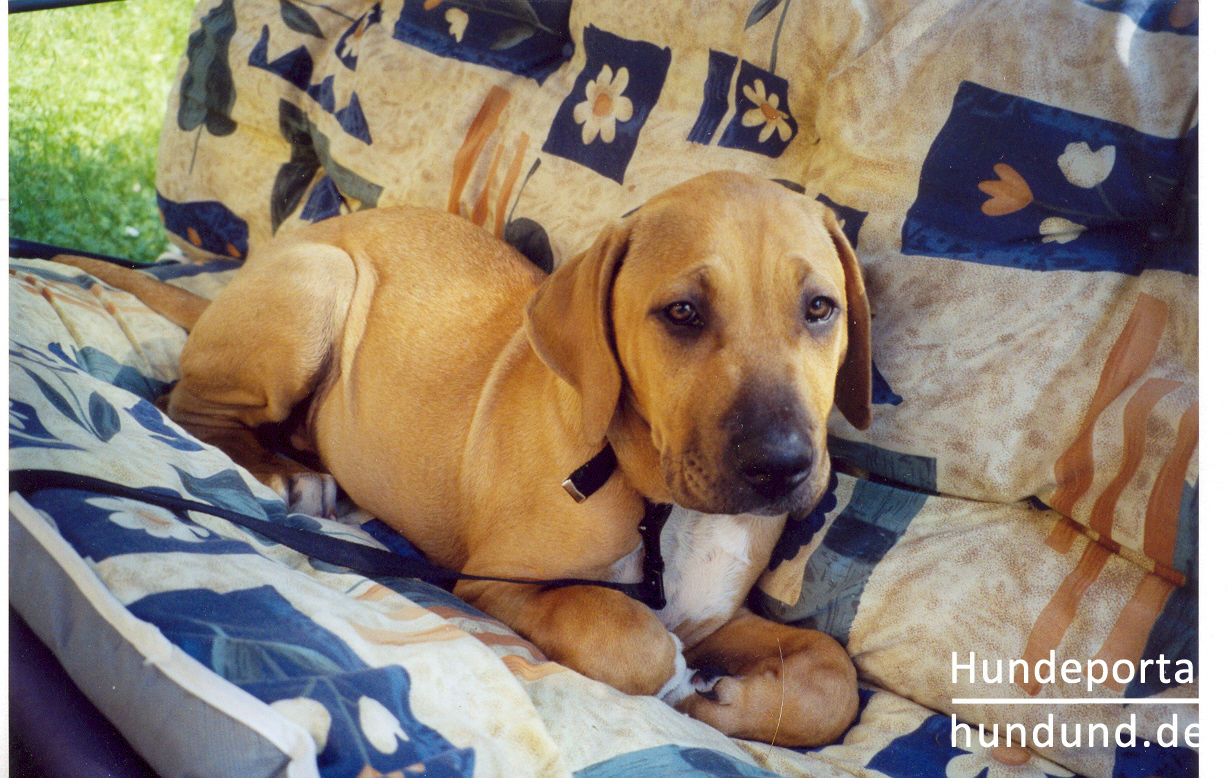tosa_inu: (46, 166, 875, 753)
